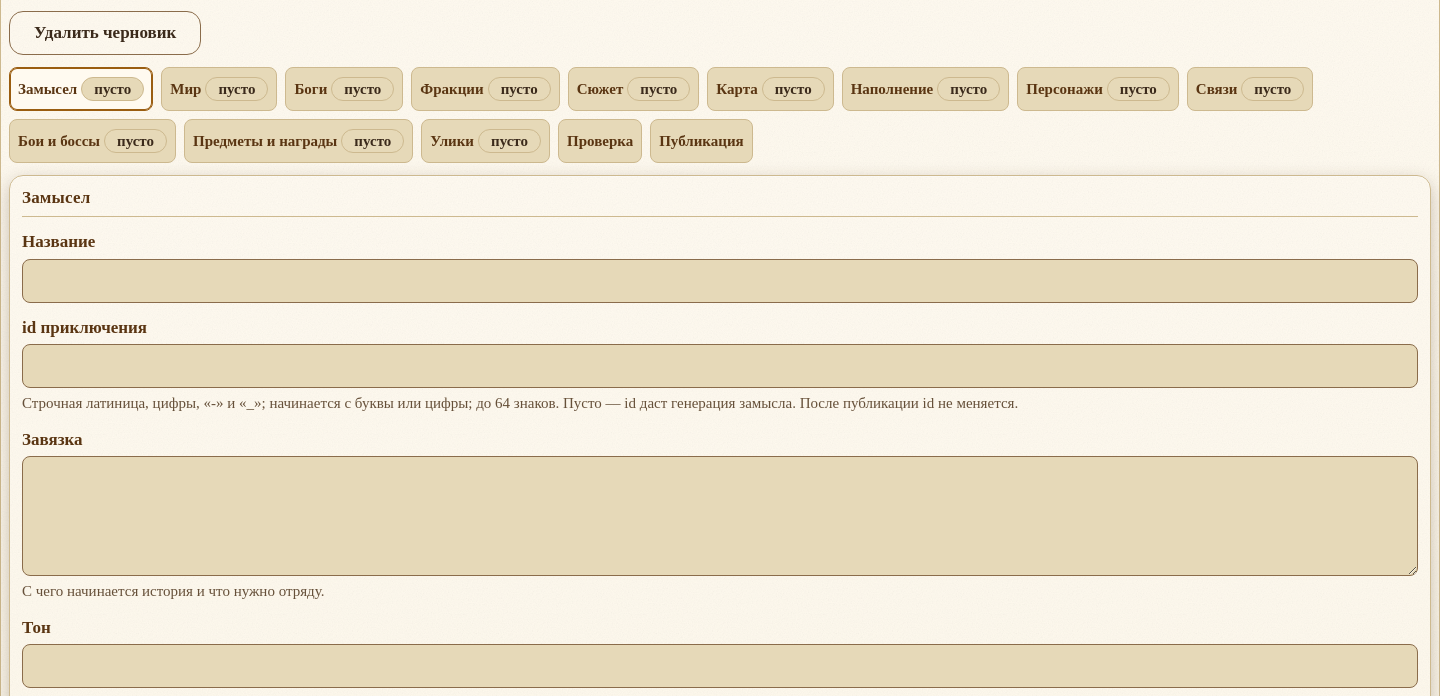
Test case: у новой связи нет «Закрепить» и «Перегенерировать»: их получает только сохранённая
Click the button "Связи пусто".
click(1250, 89)  # box [1187,67,1313,111]
(page scrolled)
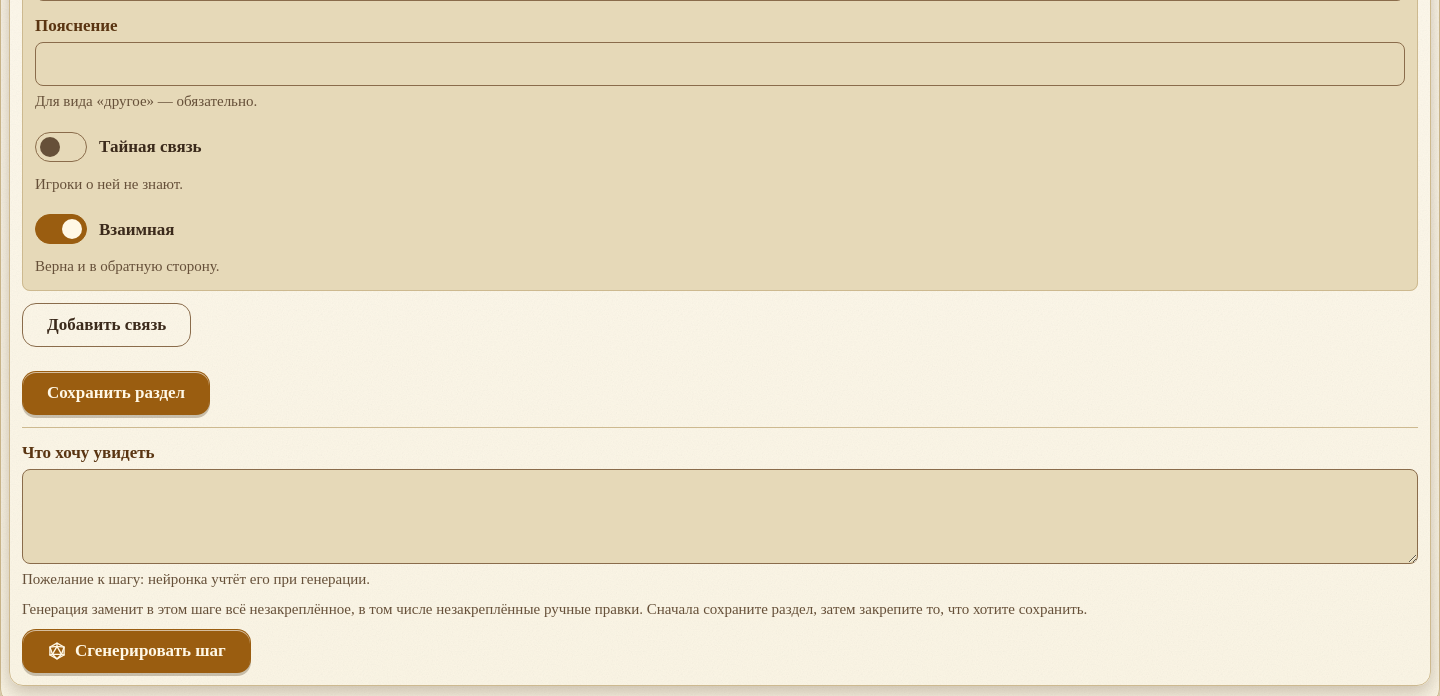
Click the button "Добавить связь".
click(107, 325)  # box [22,303,191,347]
(page scrolled)
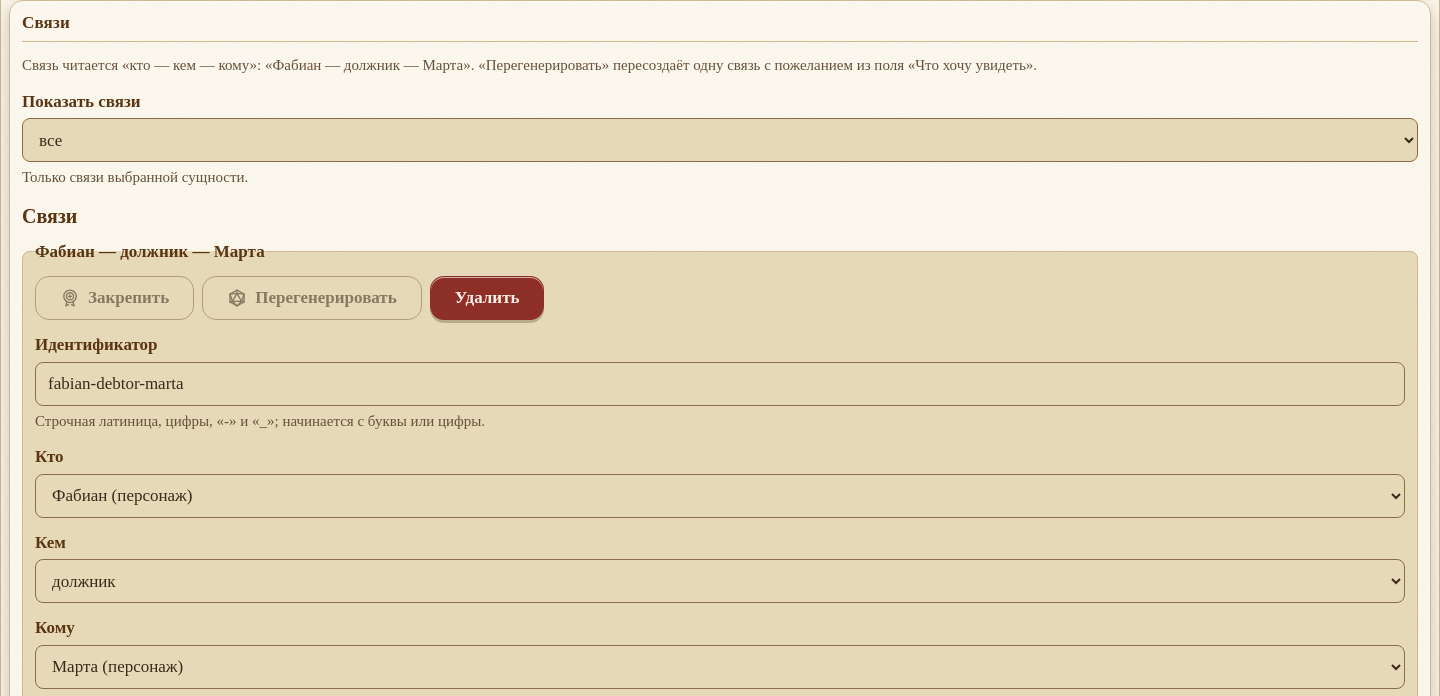
Expected: the button with aria-label "Перегенерировать: Фабиан — должник — Марта" is disabled, [202,276,422,320]
